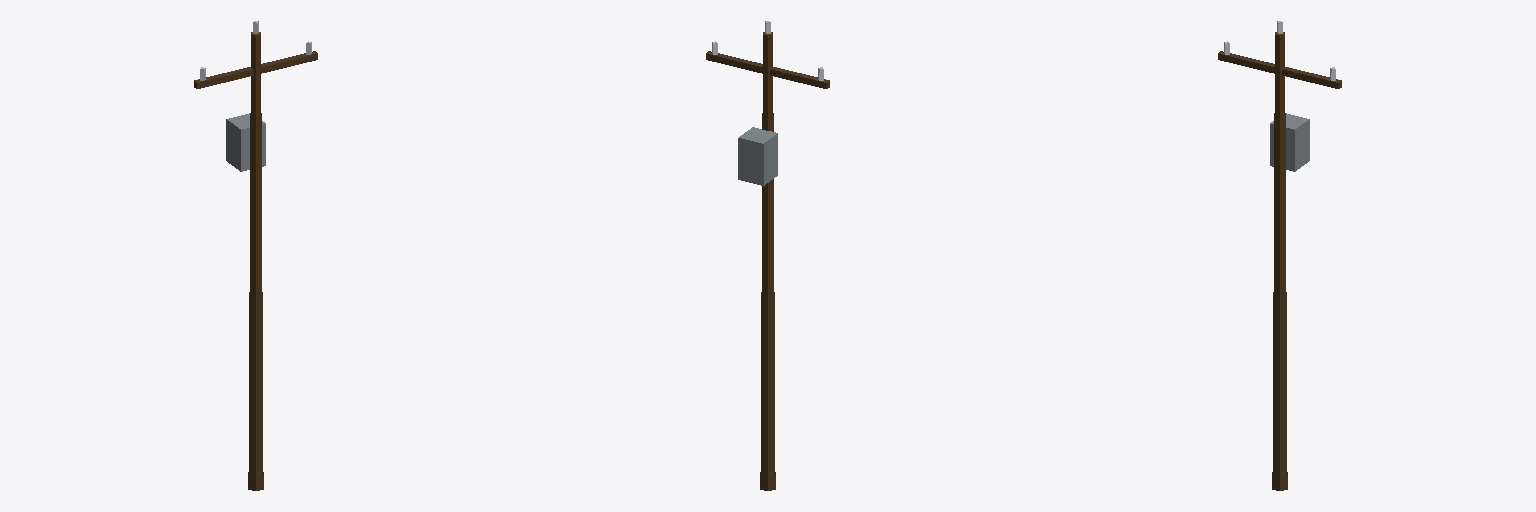
The robot description file, URDF, robot "electric_pole":
<?xml version="1.0" encoding="utf-8"?>
<!-- Generated by tools/generate_assets.py -->
<robot name="electric_pole">
  <link name="base_link">
    <inertial>
      <mass value="0" />
      <inertia ixx="0" ixy="0" ixz="0" iyy="0" iyz="0" izz="0" />
    </inertial>
    <visual name="part_0">
      <geometry><mesh filename="meshes/electric_pole_v0.obj" /></geometry>
      <material name="electric_pole_0"><color rgba="0.36 0.27 0.18 1" /></material>
    </visual>
    <visual name="part_1">
      <geometry><mesh filename="meshes/electric_pole_v1.obj" /></geometry>
      <material name="electric_pole_1"><color rgba="0.78 0.8 0.82 1" /></material>
    </visual>
    <visual name="part_2">
      <geometry><mesh filename="meshes/electric_pole_v2.obj" /></geometry>
      <material name="electric_pole_2"><color rgba="0.55 0.58 0.6 1" /></material>
    </visual>
    <collision name="hull_0">
      <geometry><mesh filename="meshes/electric_pole_c0.obj" /></geometry>
    </collision>
    <collision name="hull_1">
      <geometry><mesh filename="meshes/electric_pole_c1.obj" /></geometry>
    </collision>
    <collision name="hull_2">
      <geometry><mesh filename="meshes/electric_pole_c2.obj" /></geometry>
    </collision>
  </link>
</robot>

--- Render facts (derived) ---
The picture shows the robot from 3 angles, left to right: view 1: azimuth 30°, elevation 25°; view 2: azimuth 150°, elevation 25°; view 3: azimuth 330°, elevation 25°; orthographic projection.
Model electric_pole with 1 links and 0 joints (none), rooted at base_link, posed every joint at zero.
Links seen in each view (by area): view 1: base_link; view 2: base_link; view 3: base_link.
Link boxes in pixels (x1,y1,x2,y2): base_link: [194, 21, 317, 490]; base_link: [706, 21, 829, 490]; base_link: [1218, 21, 1341, 490].
Size in the robot's own frame: 2.4 by 0.7099 by 8.82 metres.
3 mesh visuals loaded from 3 distinct referenced files (3 OBJ).
